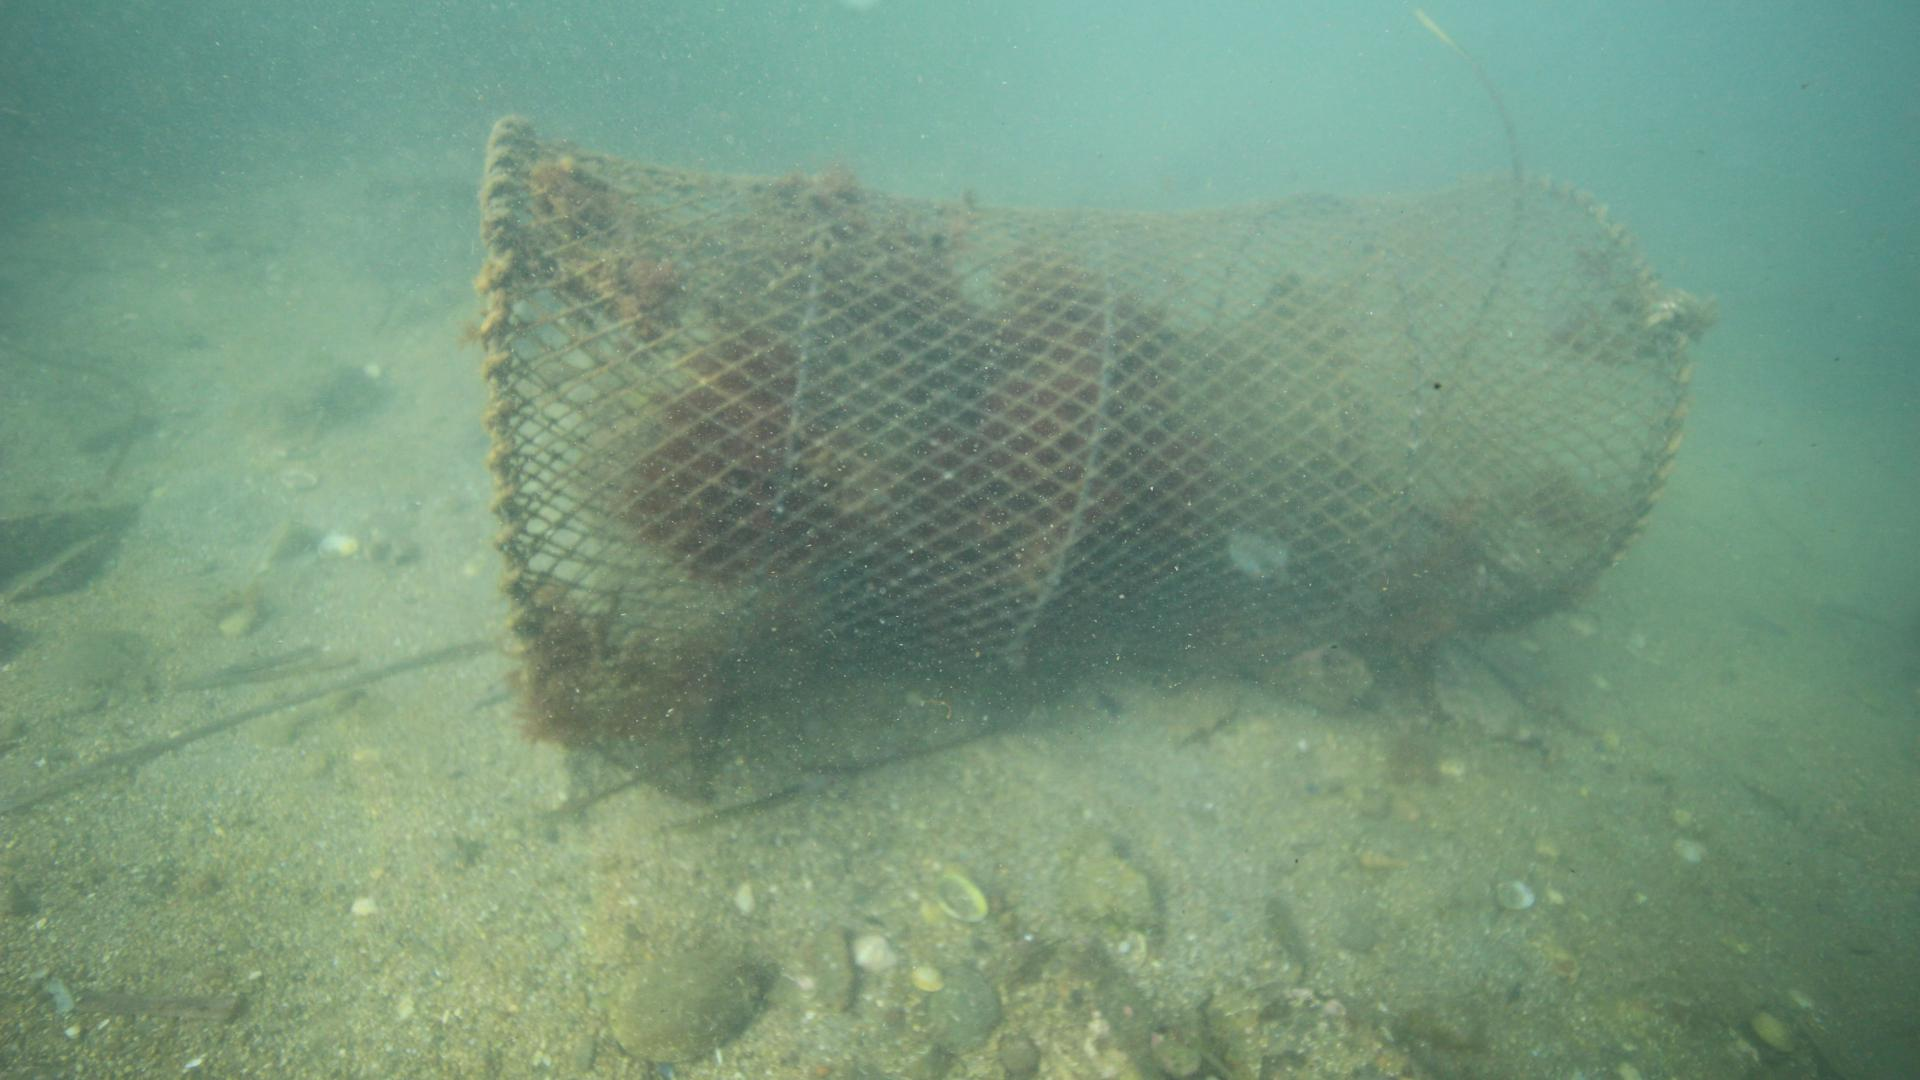spring fish trap: (477, 113, 1691, 733)
